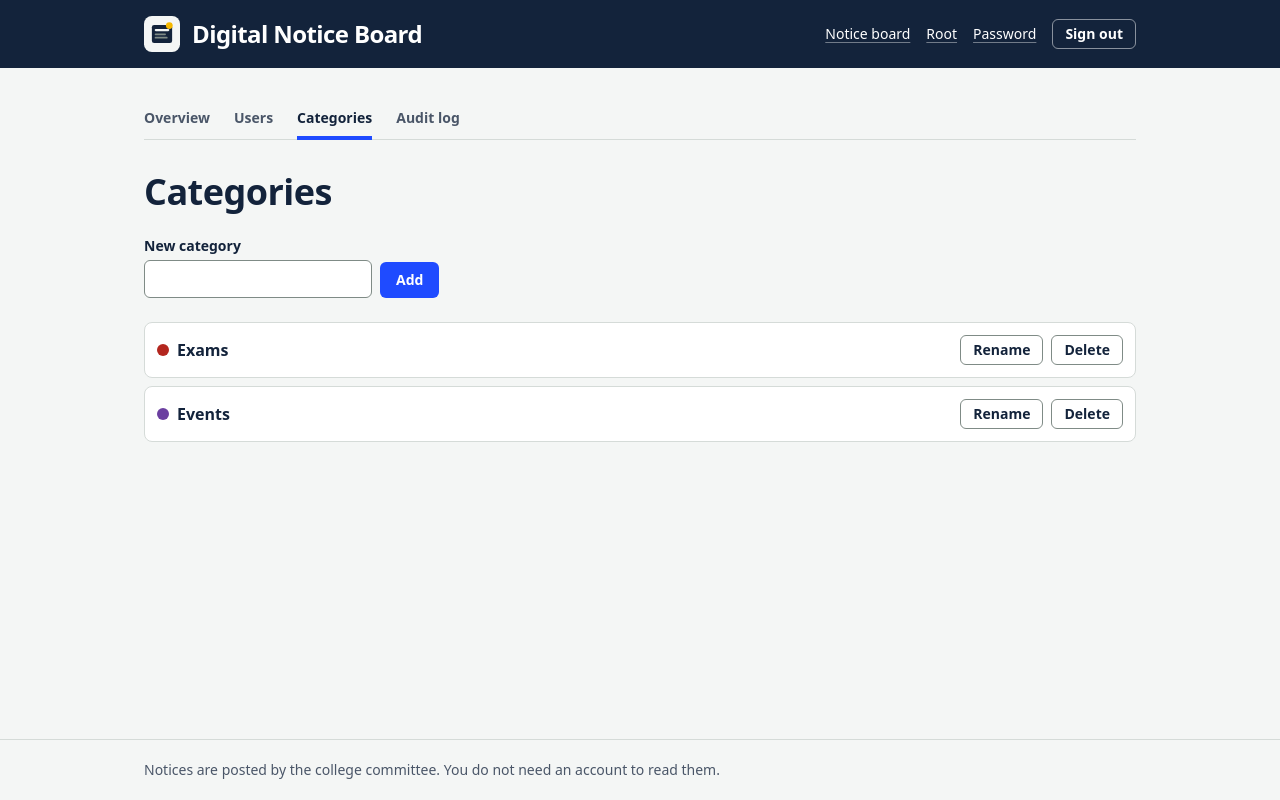
Test: categories page › renames a category
This screenshot has width=1280, height=800.
Check: the text "Exams" is shown, box [157,338,228,362]
Click the button "Rename" in the row of "Exams". click: (1002, 350)
box: [960,335,1044,365]
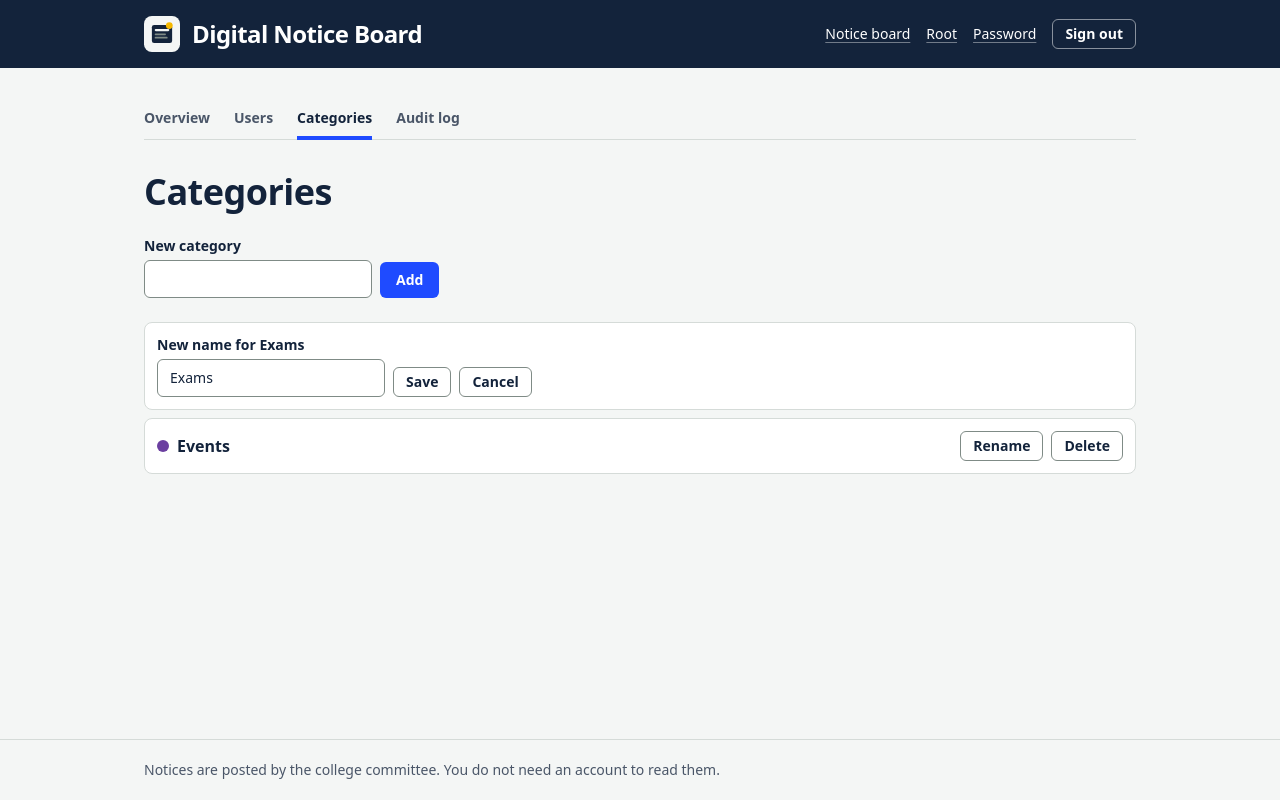
Check: the field labelled "New name for Exams" holds "Exams"
Replace the text in the field labelled "New name for Exams" with "Tests". click: (271, 378)
box: [157,359,385,397]
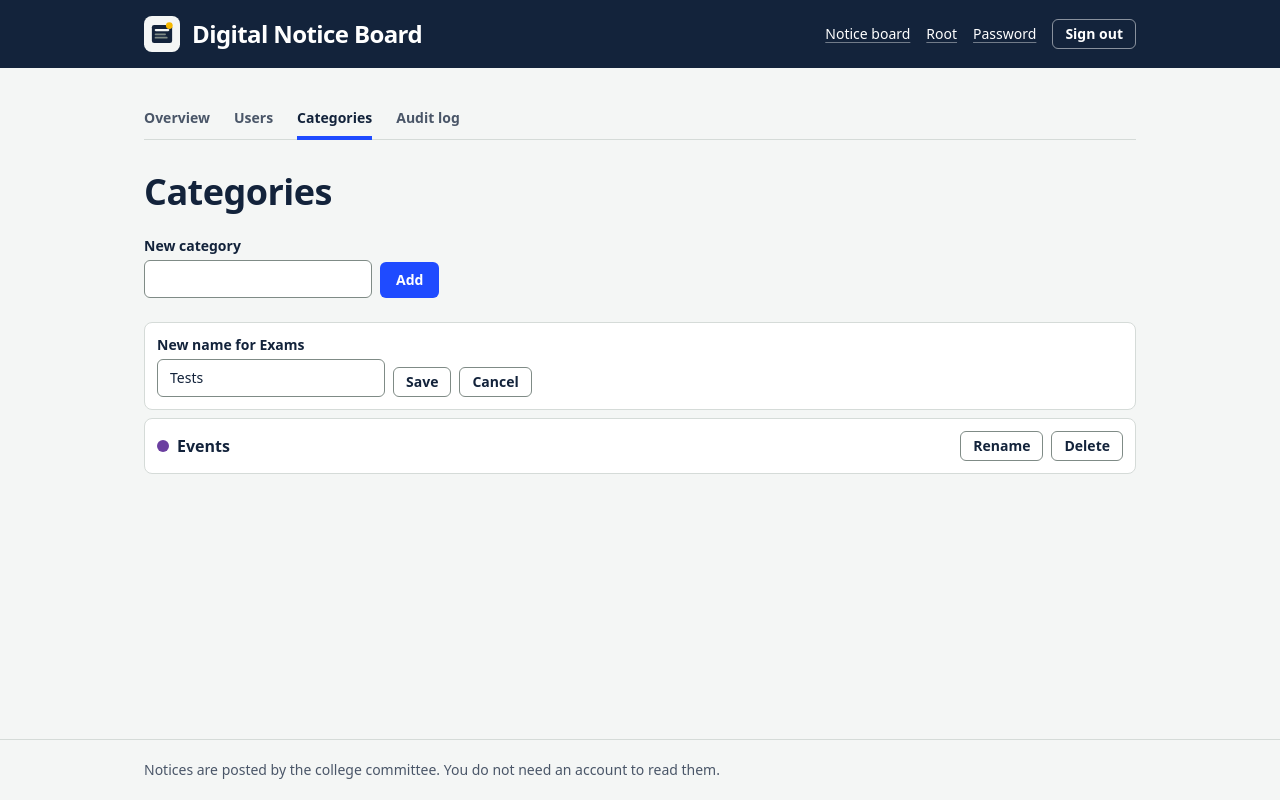
Click the button "Save". click: (422, 382)
box: [393,367,451,397]
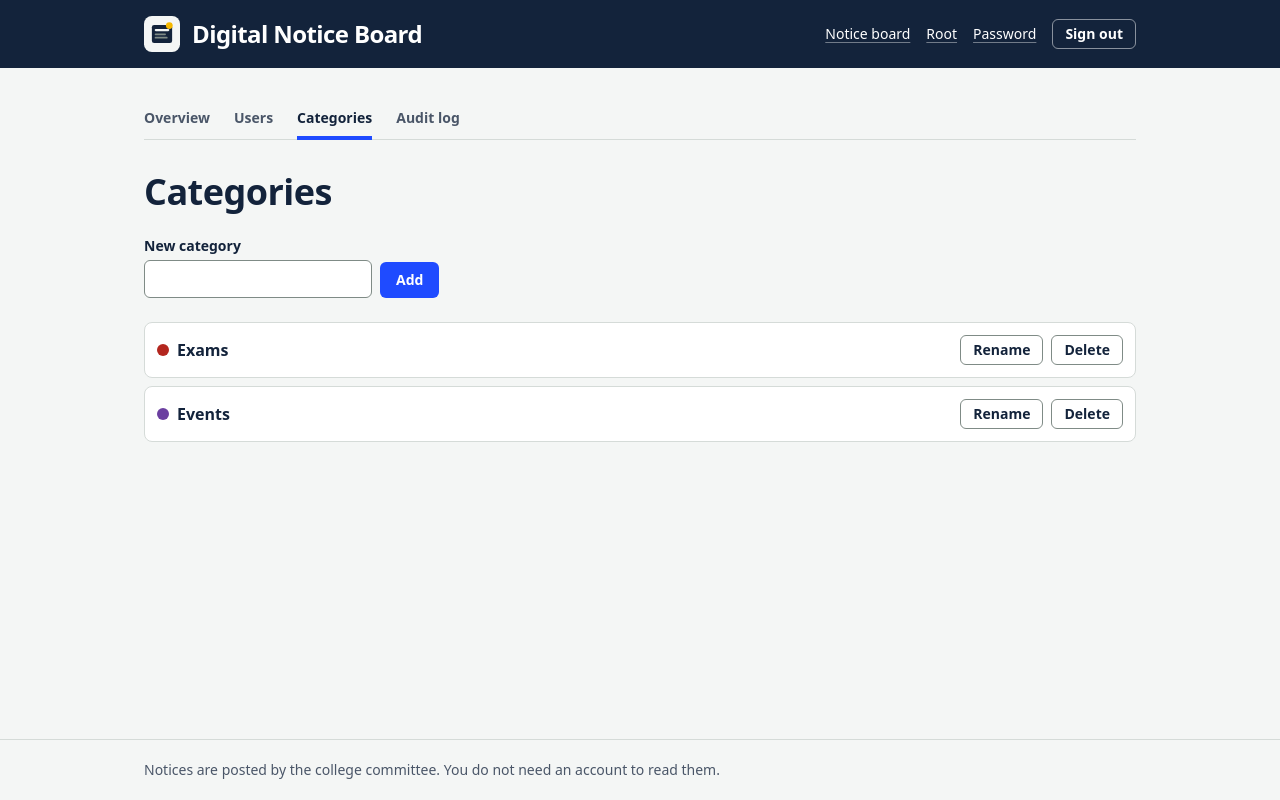
Check: the label labelled "New name for Exams" is gone
